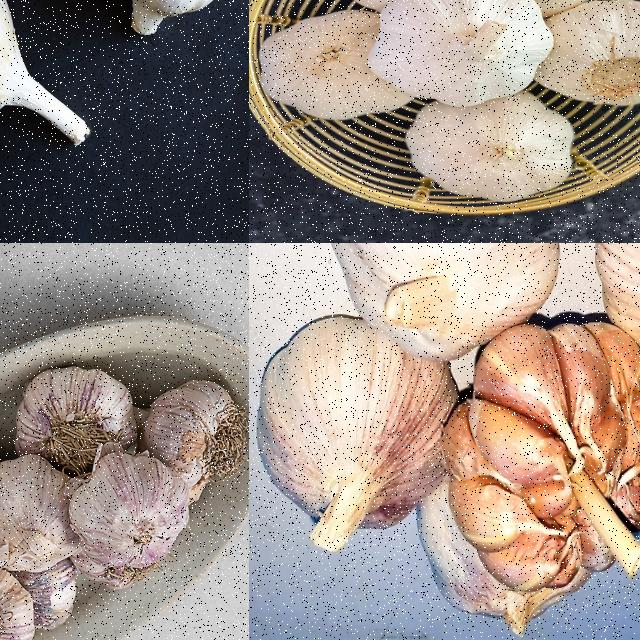garlic: (441, 321, 639, 589), (252, 317, 467, 548), (327, 243, 568, 364), (370, 0, 551, 107), (404, 92, 574, 204), (255, 9, 418, 121), (14, 358, 136, 472), (509, 0, 639, 104), (0, 0, 88, 148), (71, 454, 181, 569), (142, 380, 242, 487), (0, 457, 83, 574), (606, 344, 639, 530), (95, 0, 234, 39)
